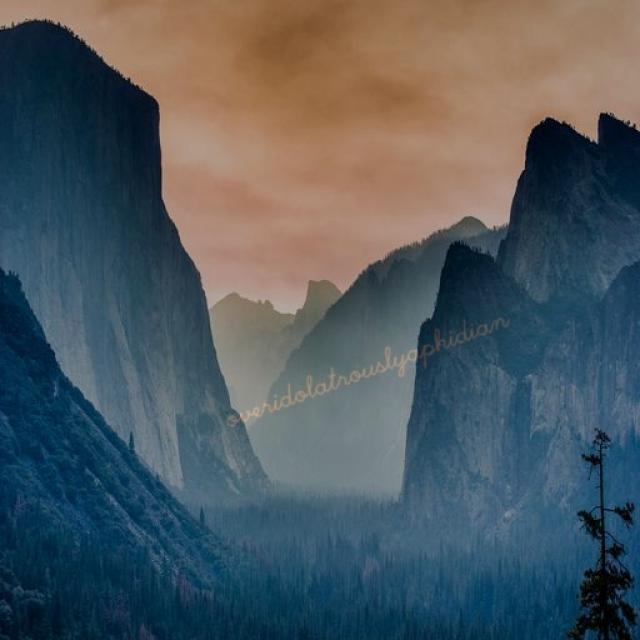watermark: (221, 302, 510, 432)
